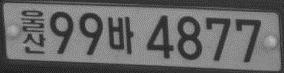4: (145, 14, 173, 59)
7: (235, 18, 261, 63), (205, 16, 230, 61)
8: (176, 15, 203, 60)
9: (78, 11, 103, 55), (49, 10, 73, 55)
바: (107, 16, 134, 54)
울산_V: (20, 9, 45, 54)
